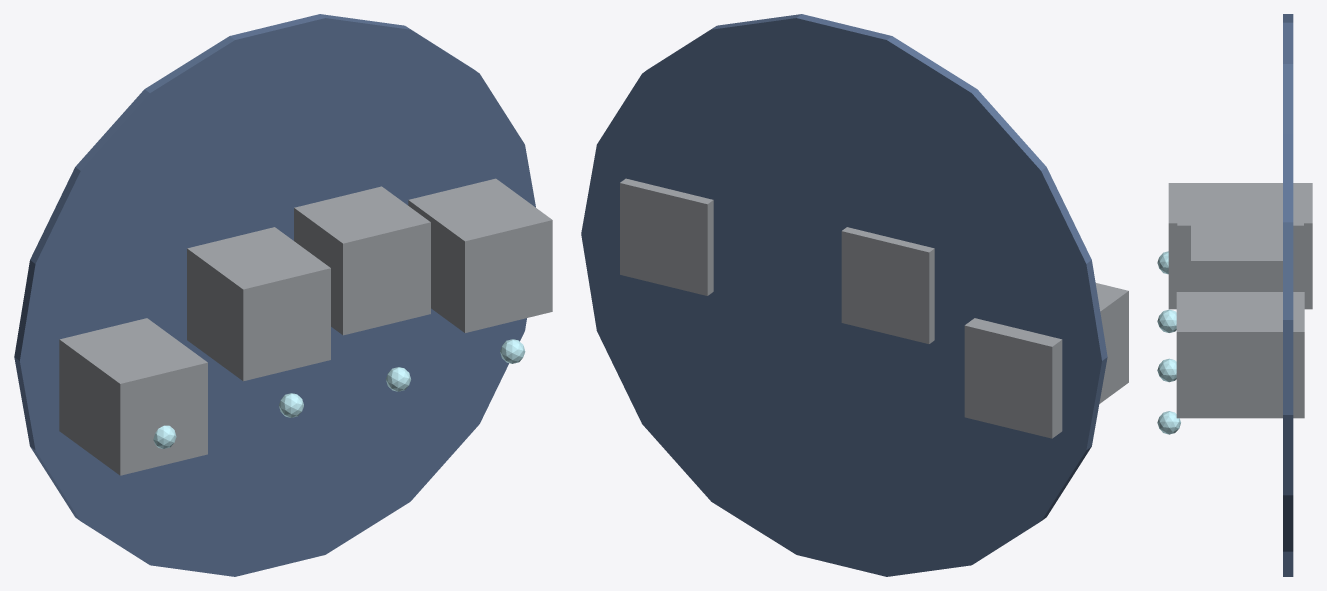
The model's file is 02_local_prop_cluster.glb.
3 renders of one model, left to right at view 1: azimuth 30°, elevation 25°; view 2: azimuth 150°, elevation 25°; view 3: azimuth 270°, elevation 25°, orthographic. The views are drawn at different scales.
Visible parts, largest first — view 1: scatter_base, tech_crate_0, tech_crate_1, tech_crate_3, tech_crate_2; view 2: scatter_base, tech_crate_0, tech_crate_3, tech_crate_1; view 3: tech_crate_3, tech_crate_2, scatter_base, tech_crate_1, tech_crate_0, status_light_3, status_light_1, status_light_2.
Boxes of the visible parts, x1,y1,x2,y2 form: scatter_base: (14,14,535,576); tech_crate_0: (59,318,207,475); tech_crate_1: (187,227,330,381); tech_crate_3: (408,178,552,332); tech_crate_2: (294,186,430,335); scatter_base: (581,14,1107,576); tech_crate_0: (964,283,1128,438); tech_crate_3: (620,178,713,295); tech_crate_1: (841,227,934,343); tech_crate_3: (1176,292,1304,418); tech_crate_2: (1191,220,1282,291); scatter_base: (1283,14,1293,576); tech_crate_1: (1177,185,1303,291); tech_crate_0: (1168,183,1312,309); status_light_3: (1157,411,1180,434); status_light_1: (1157,309,1176,332); status_light_2: (1157,358,1176,382).
Bounding box in the file's own units: 1.9 × 1.87 × 0.5219.
